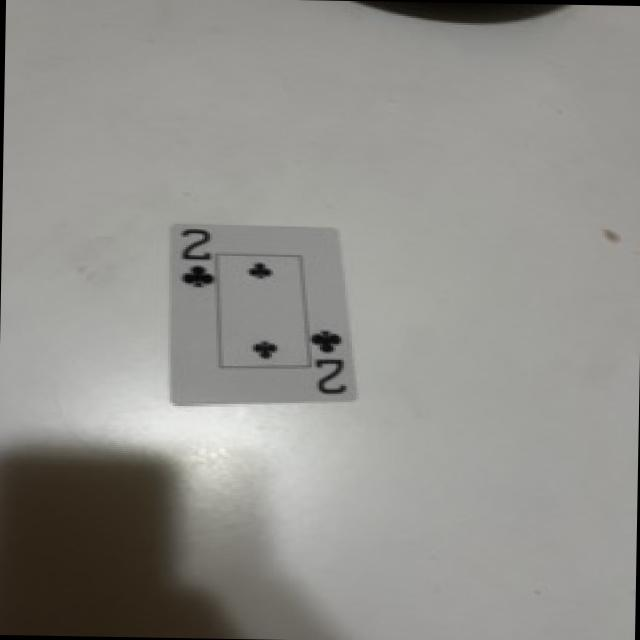2 of clubs: (172, 225, 357, 405)
